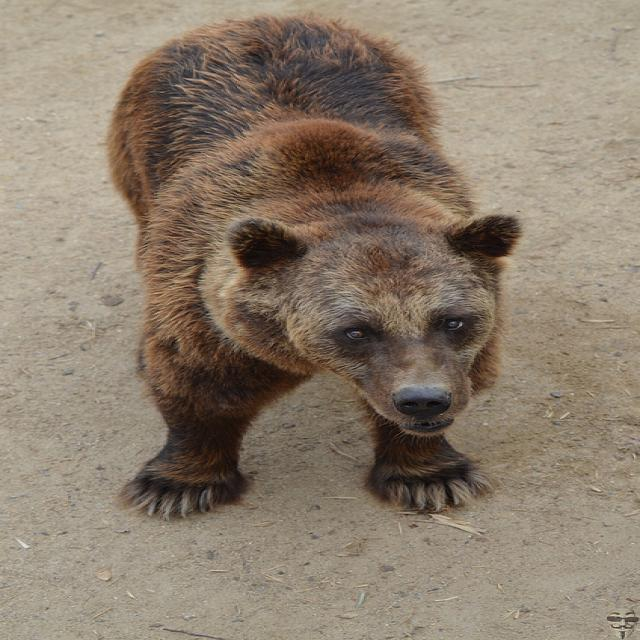Bear: (97, 20, 527, 507)
